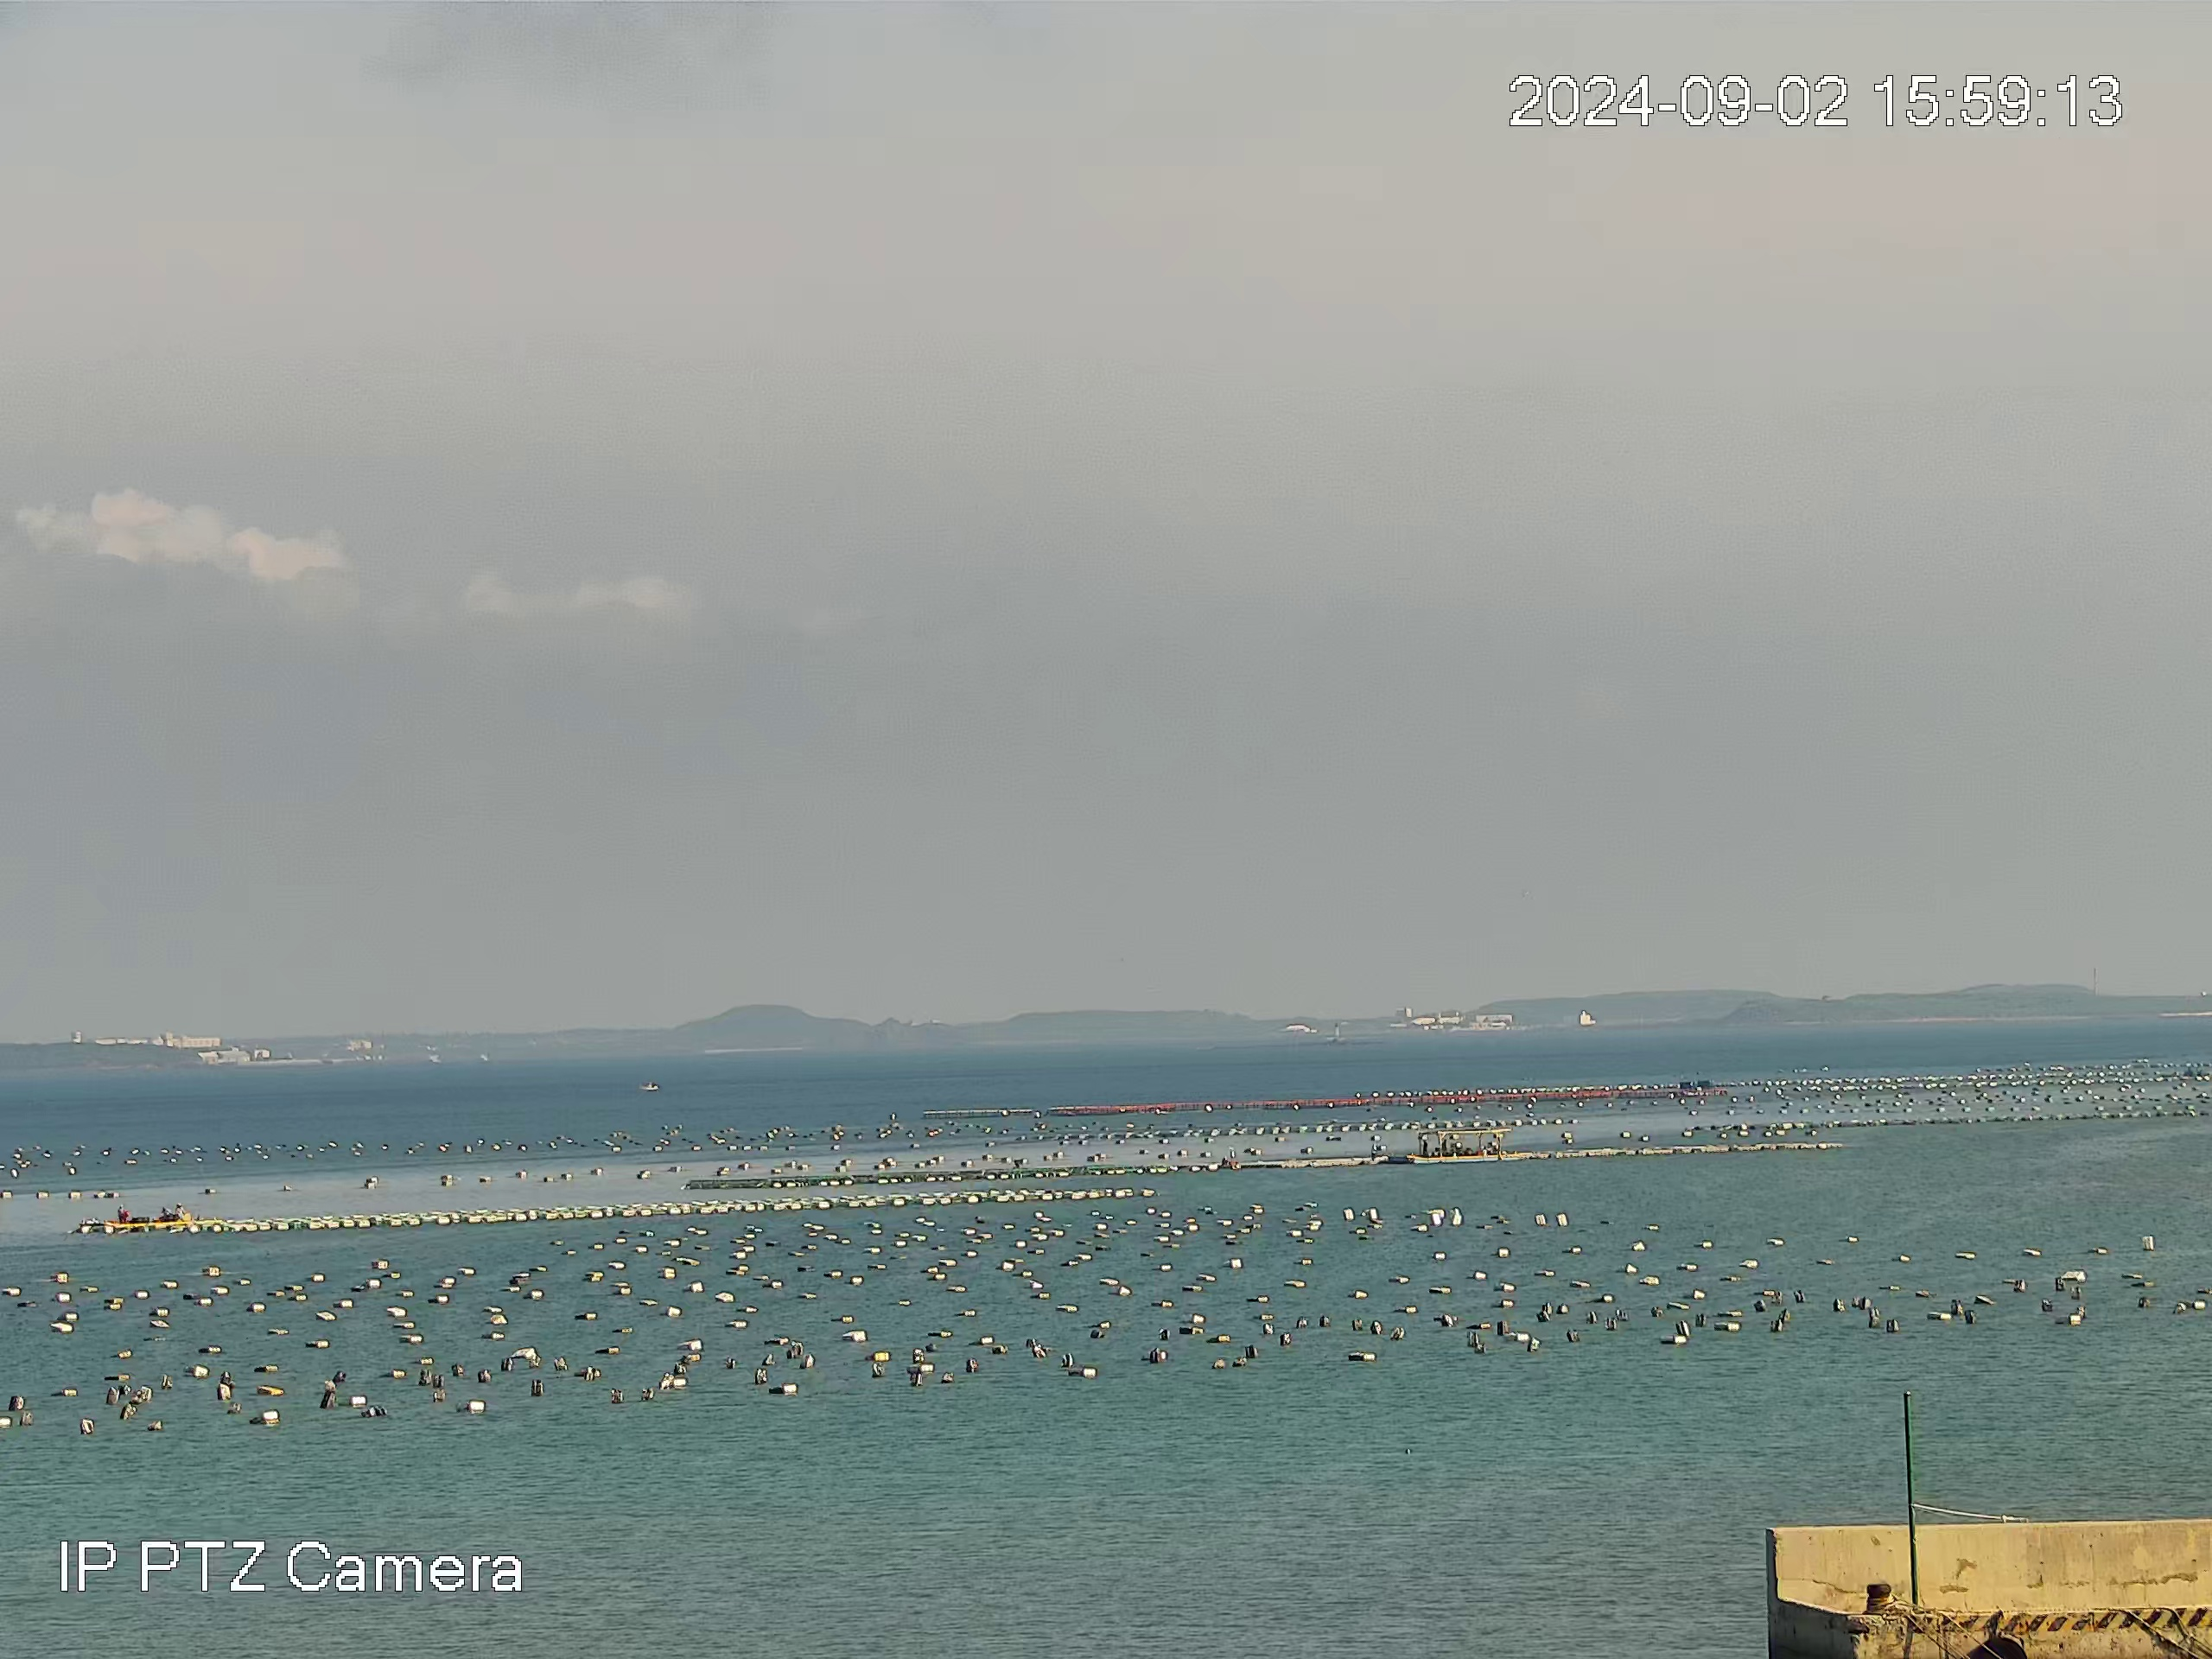boat: (1406, 1126, 1527, 1166), (103, 1202, 225, 1227), (637, 1079, 662, 1093)
